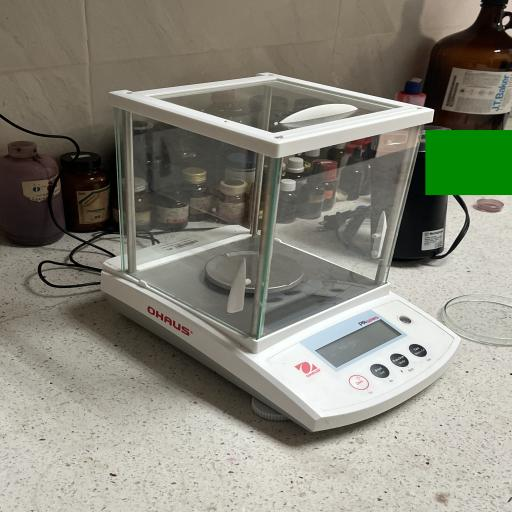Balanza_Analitica_Ohaus: (99, 69, 475, 437)
